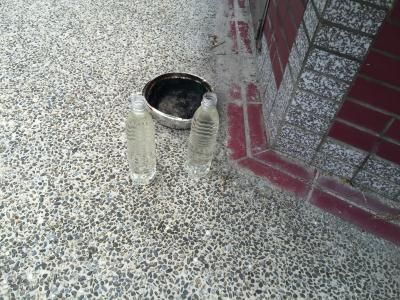bottle: (183, 89, 221, 185), (124, 99, 164, 189)
bowl: (140, 70, 219, 134)
